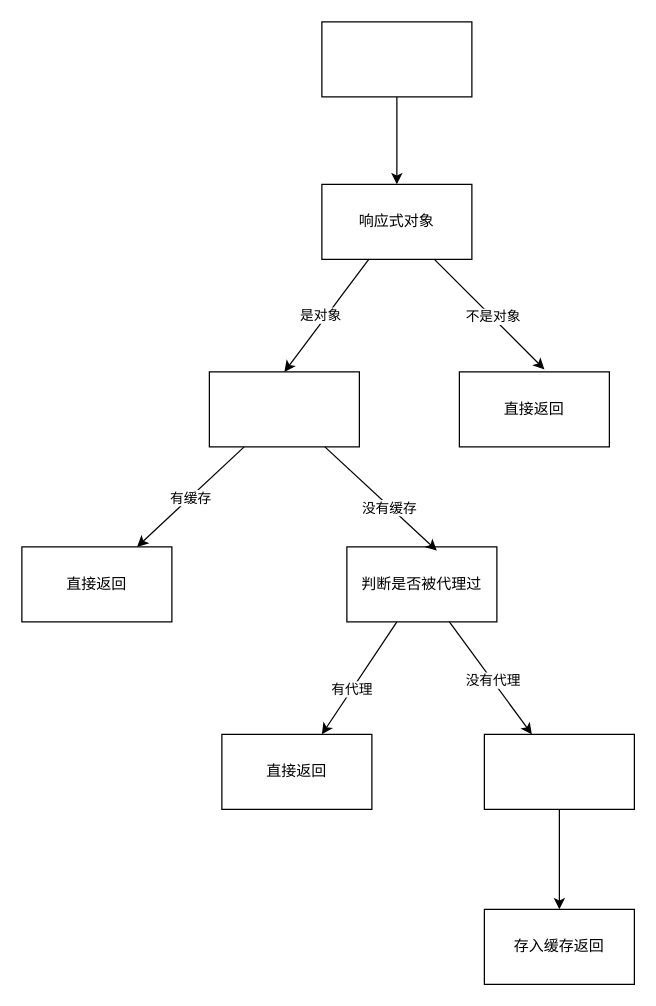
This 656x1006 diagram has some shape labels left out. The shapes that lost their labels are listed below. From the top down, each one's centre as x and y in pixels, then its label:
pixel 396 59: 开始
pixel 283 409: 判断是否有缓存
pixel 558 771: 创建代理对象
